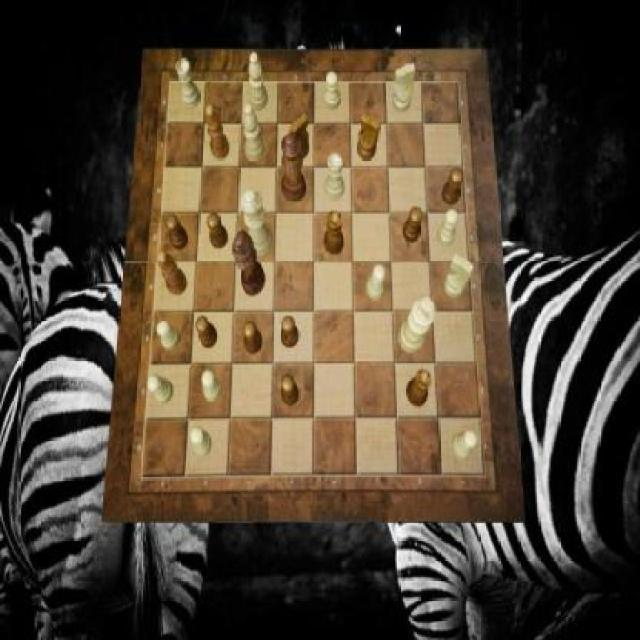bishop: (157, 251, 187, 296), (206, 105, 230, 159)
black-bishop: (232, 230, 266, 296)
black-king: (357, 112, 380, 160), (289, 114, 309, 161)
black-knight: (441, 168, 464, 205), (166, 216, 189, 252), (208, 212, 228, 248), (403, 206, 423, 242), (196, 317, 217, 349), (243, 320, 262, 355), (280, 374, 299, 406), (280, 317, 299, 349)
black-pawn: (282, 134, 308, 203)
black-queen: (406, 369, 432, 407), (324, 211, 344, 256)
black-rook: (243, 103, 264, 162), (250, 52, 268, 111)
white-bishop: (399, 295, 436, 353)
white-king: (443, 254, 474, 298), (392, 63, 416, 112)
white-knight: (437, 209, 459, 247), (452, 429, 478, 460), (148, 374, 174, 403), (366, 264, 386, 300), (157, 320, 180, 351), (190, 426, 212, 457), (203, 371, 223, 403), (324, 71, 340, 109)
white-pawn: (240, 190, 273, 258)
white-queen: (176, 59, 200, 110), (326, 154, 346, 200)
